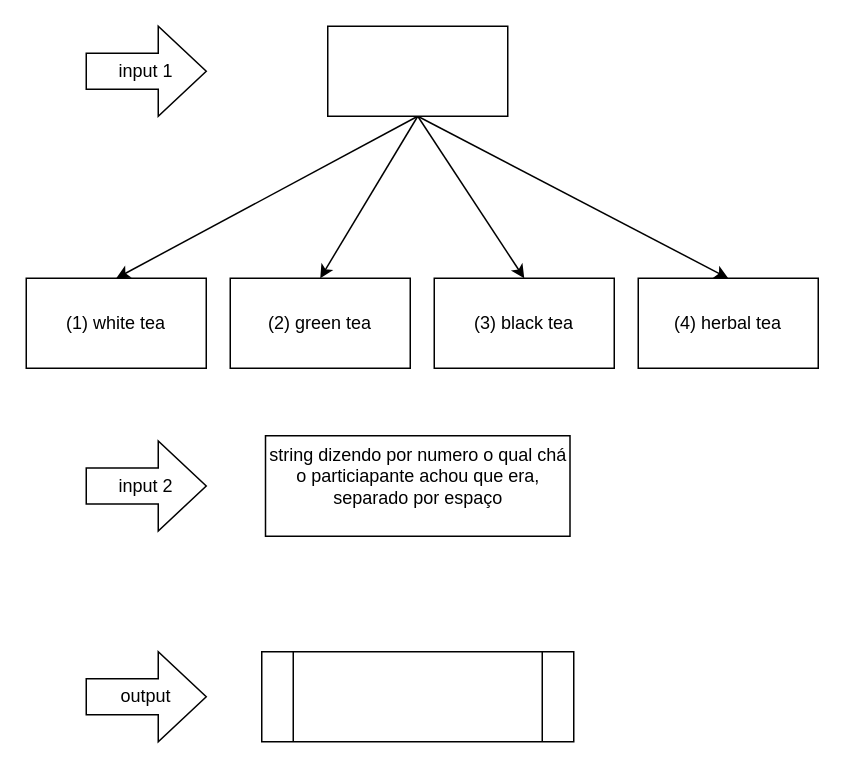
This 845x768 diagram has some shape labels left out. Here are the shapes that lost their labels. From the top down, the box of each, then its label:
(326, 25, 508, 116): Int T = tipo de chá
(260, 650, 574, 742): int Quantidade de acertos
